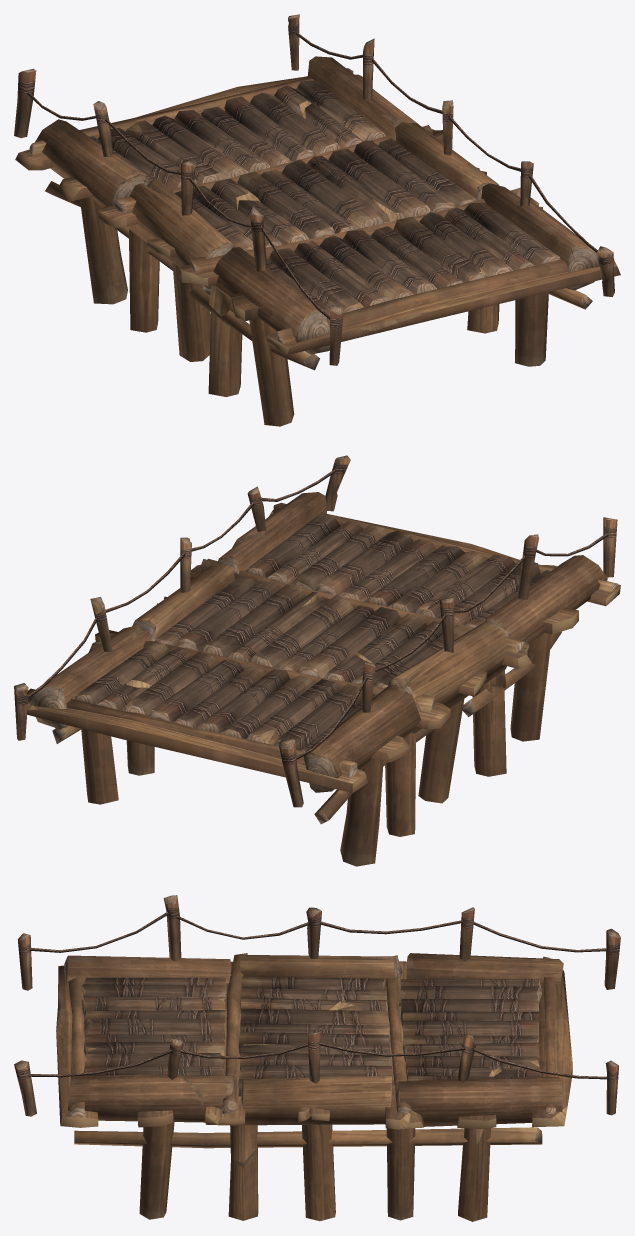
The model's file is daliang_field_b_s05.fbx.
3 renders of one model, top to bottom at view 1: azimuth 30°, elevation 25°; view 2: azimuth 150°, elevation 25°; view 3: azimuth 270°, elevation 25°, orthographic. The views are drawn at different scales.
Parts seen in each view (by area): view 1: daliang_field_b_s05; view 2: daliang_field_b_s05; view 3: daliang_field_b_s05.
Boxes of the visible parts, x1,y1,x2,y2 form: daliang_field_b_s05: (14,14,620,426); daliang_field_b_s05: (14,455,620,866); daliang_field_b_s05: (14,895,620,1221).
Bounding box in the file's own units: 1062 × 615 × 1705.
